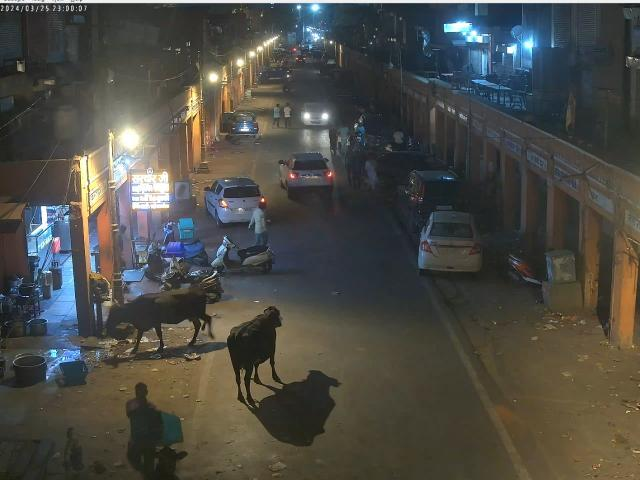car: (416, 210, 486, 276), (395, 169, 469, 224), (204, 176, 266, 228), (277, 151, 333, 199)
cattle: (105, 285, 214, 354), (226, 304, 284, 402)
license_plate: (440, 248, 460, 254), (436, 205, 452, 211), (237, 208, 253, 212)
person: (125, 382, 162, 475), (248, 202, 272, 246)
scooty: (160, 257, 223, 302), (208, 234, 274, 274), (162, 221, 208, 265), (146, 244, 187, 280)
